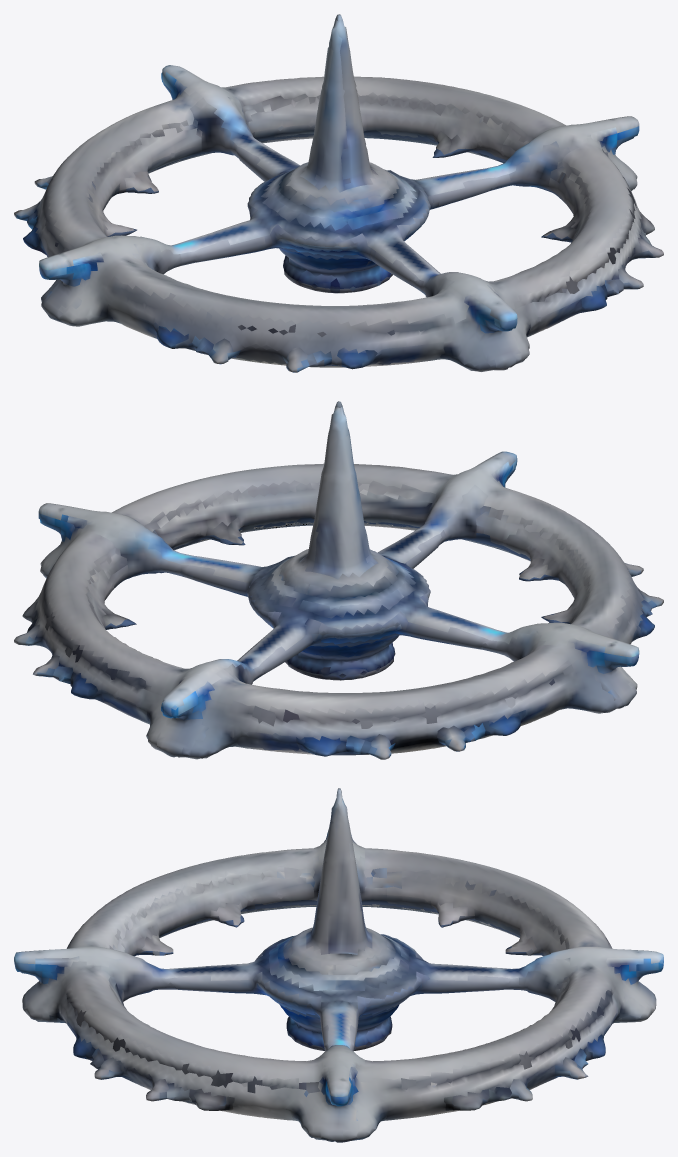
Rendered from alliance_starbase.remesh.glb.
3 views of the same model, one above another, from view 1: azimuth 30°, elevation 25°; view 2: azimuth 150°, elevation 25°; view 3: azimuth 270°, elevation 25° (orthographic). The views are drawn at different scales.
Parts seen in each view (by area): view 1: model; view 2: model; view 3: model.
Boxes of the visible parts, x1,y1,x2,y2 form: model: (14,14,663,372); model: (14,401,663,759); model: (14,788,663,1142).
Bounding box in the file's own units: 1.88 × 0.7838 × 1.87.
Materials: 1 (1 with a texture image).
